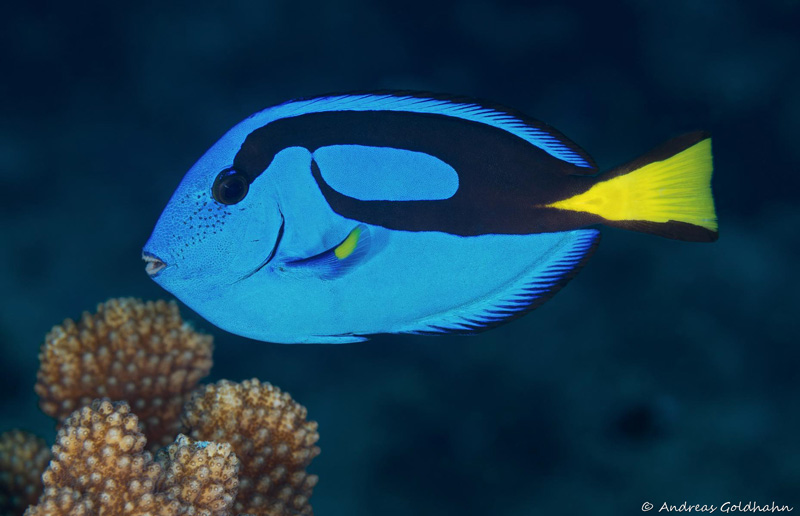fish: (114, 85, 742, 366)
